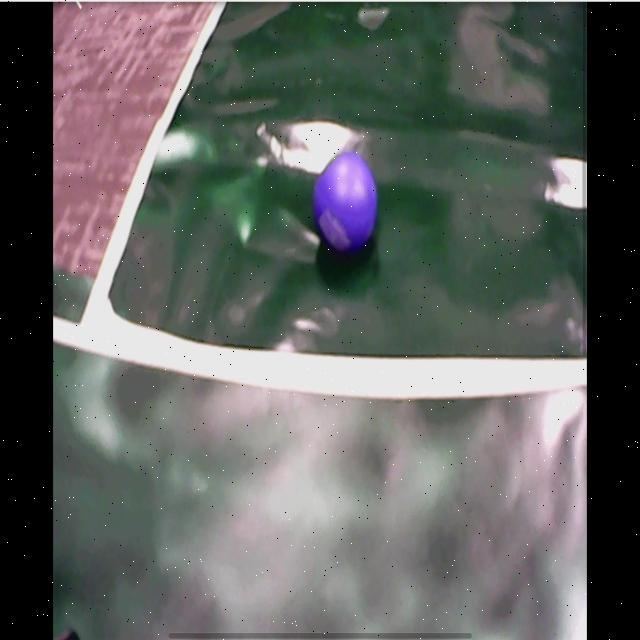ball: (315, 154, 379, 256)
